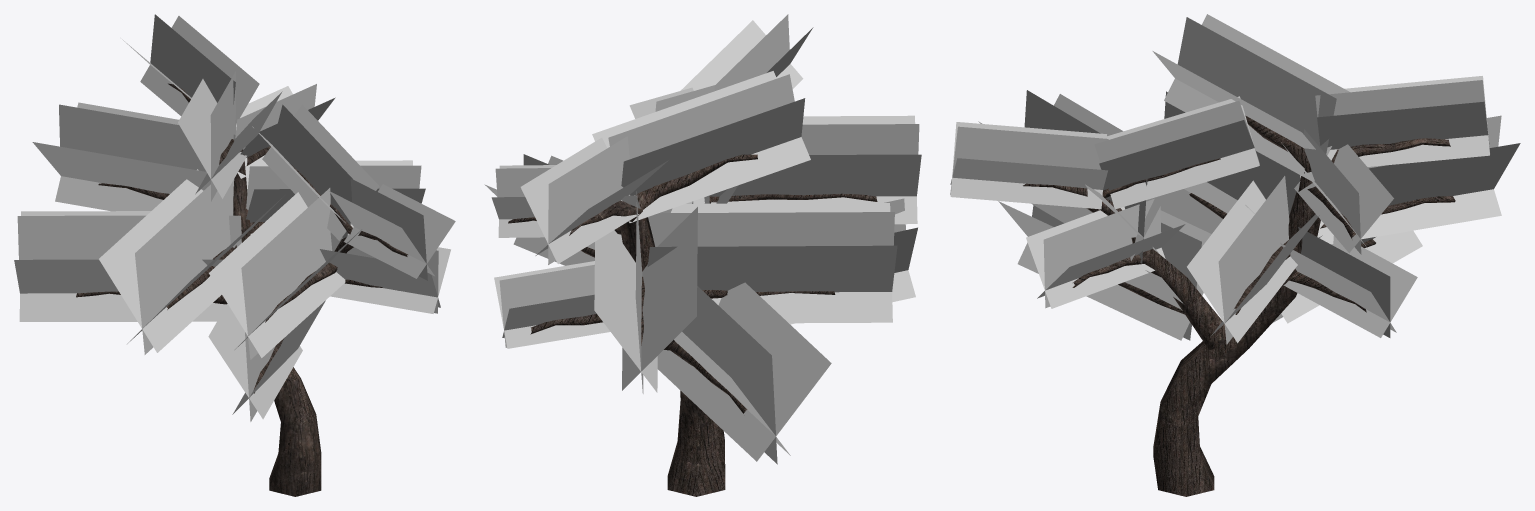
The model's file is blackpine02_unwrap.FBX.
3 views of the same model, side by side, from view 1: azimuth 30°, elevation 25°; view 2: azimuth 150°, elevation 25°; view 3: azimuth 270°, elevation 25° (orthographic). The views are drawn at different scales.
Parts seen in each view (by area): view 1: BlackPine02, TRONCO; view 2: BlackPine02, TRONCO; view 3: BlackPine02, TRONCO.
Boxes of the visible parts, left/top/right/bottom form: BlackPine02: left=14, top=14, right=455, bottom=421; TRONCO: left=76, top=83, right=407, bottom=496; BlackPine02: left=484, top=14, right=921, bottom=464; TRONCO: left=508, top=154, right=877, bottom=496; BlackPine02: left=950, top=14, right=1520, bottom=344; TRONCO: left=1023, top=115, right=1455, bottom=496.
Size of the model in its own units: 126 by 132 by 162.
